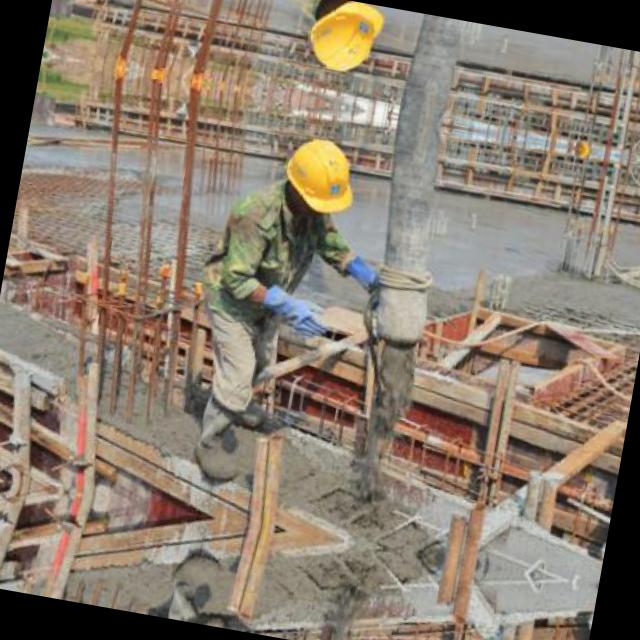helmet: (264, 118, 370, 242), (290, 0, 392, 91)
